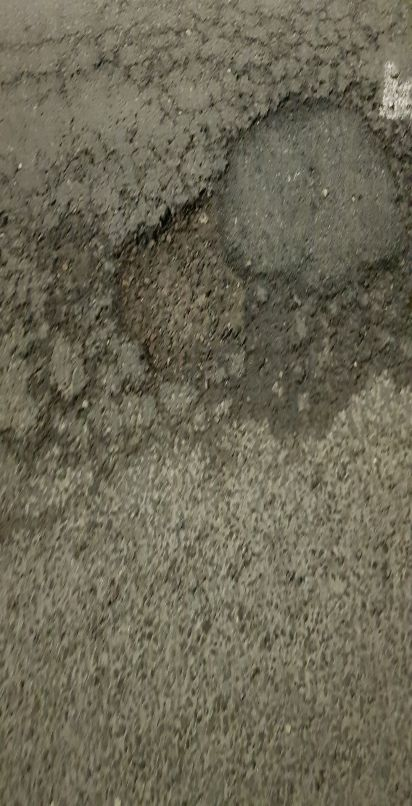pothole: (101, 186, 281, 374)
